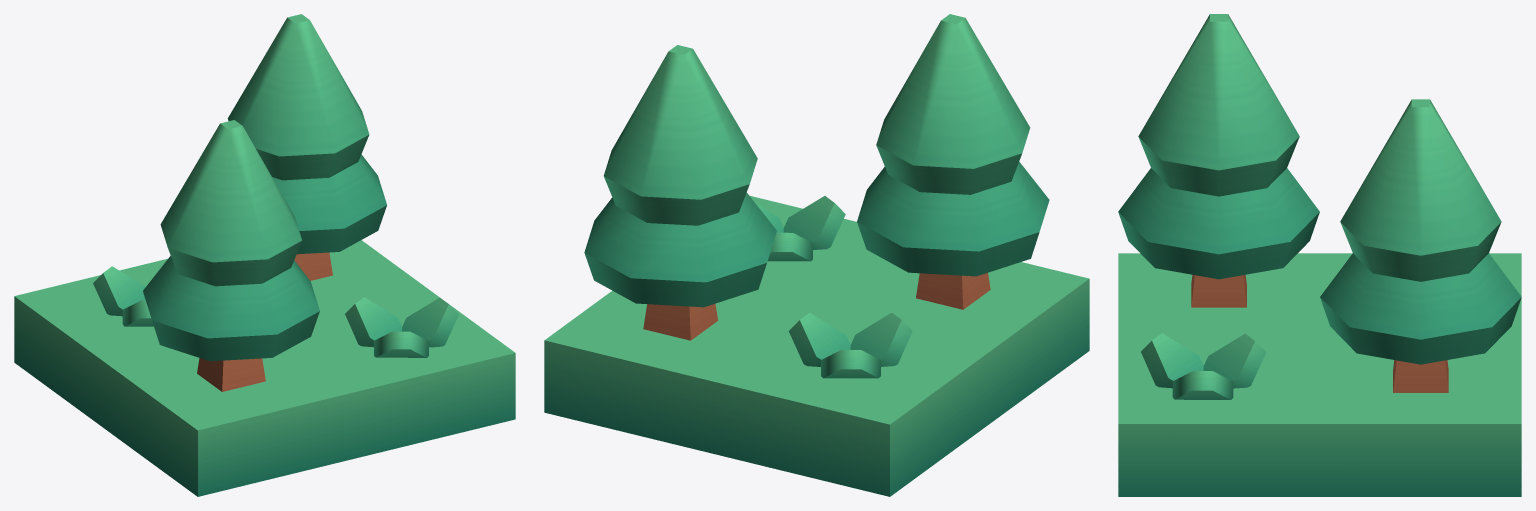
File: tile-tree-double.fbx
3 views of the same model, side by side, from view 1: azimuth 30°, elevation 25°; view 2: azimuth 150°, elevation 25°; view 3: azimuth 270°, elevation 25° (orthographic). The views are drawn at different scales.
Visible parts, largest first — view 1: tile-tree-double; view 2: tile-tree-double; view 3: tile-tree-double.
Part boxes in pixels (x1=…): tile-tree-double: x1=14, y1=14, x2=515, y2=496; tile-tree-double: x1=544, y1=14, x2=1089, y2=496; tile-tree-double: x1=1118, y1=14, x2=1521, y2=496.
Bounding box in the file's own units: 100 × 96 × 100.
